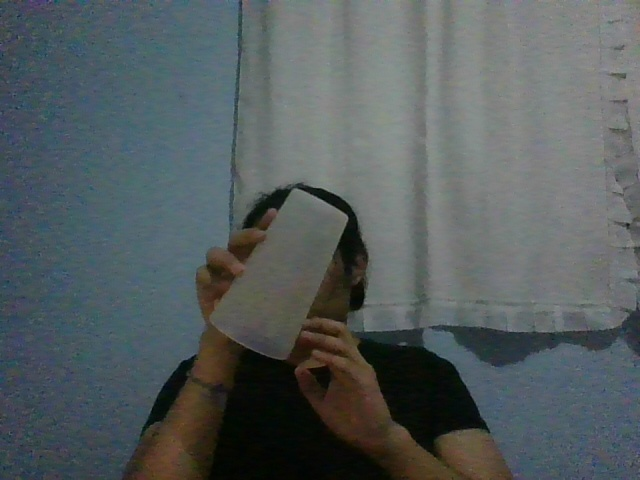vaso: (208, 188, 348, 361)
